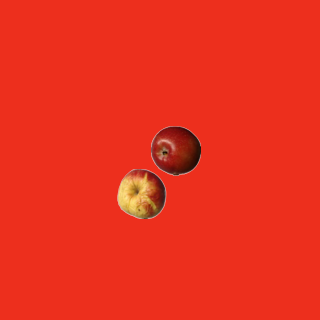Apple Braeburn: (150, 125, 200, 175)
Apple Red Yellow 1: (116, 168, 166, 218)
